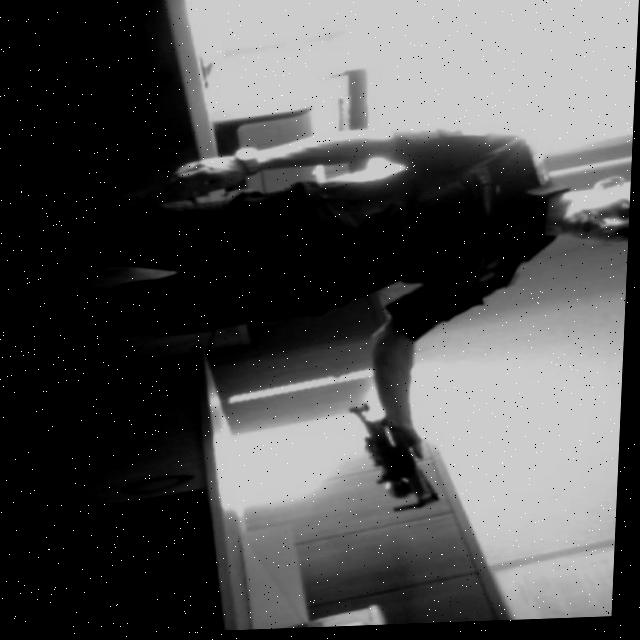drone: (331, 385, 470, 527)
